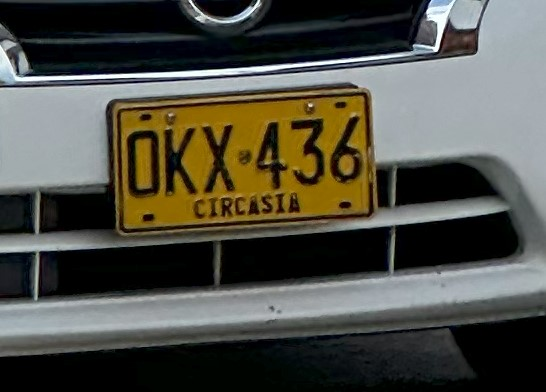number plate: (109, 88, 373, 231)
